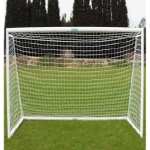goals: (4, 25, 143, 140)
